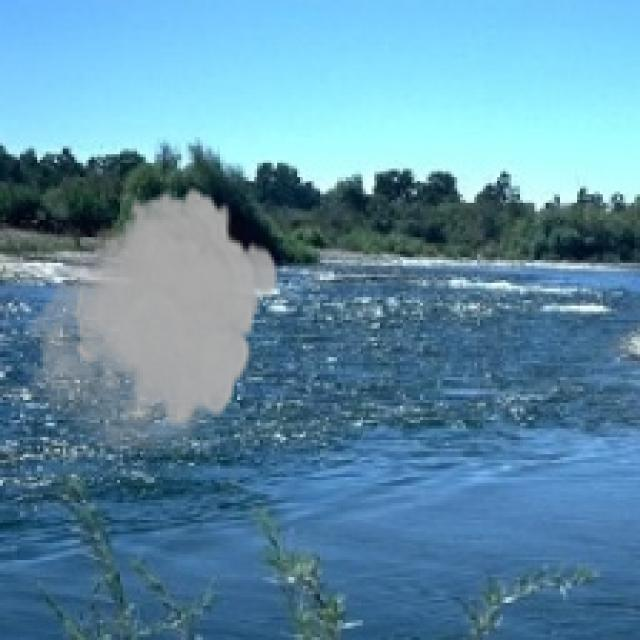Smoke: (20, 182, 280, 448)
